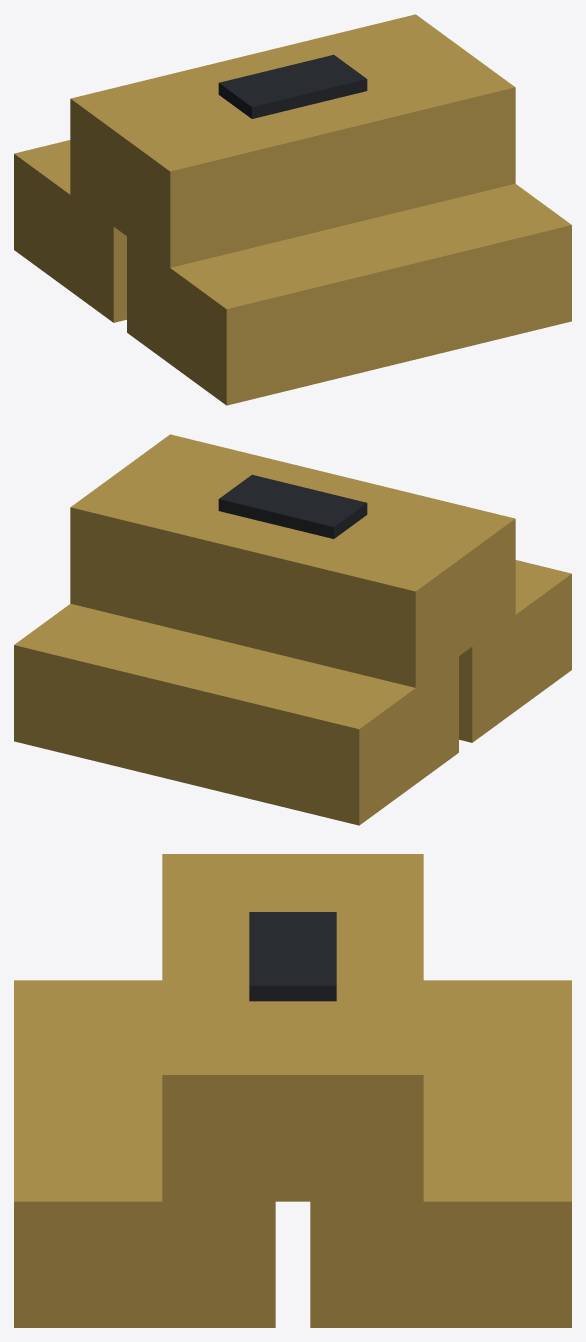
Rendered from muon-gold.lod.glb.
3 views of the same model, one above another, from view 1: azimuth 30°, elevation 25°; view 2: azimuth 150°, elevation 25°; view 3: azimuth 270°, elevation 25° (orthographic). The views are drawn at different scales.
Parts seen in each view (by area): view 1: m; view 2: m; view 3: m.
Part boxes in pixels (x1,y1,x2,y2): m: (14, 14, 571, 405); m: (14, 434, 571, 825); m: (14, 854, 571, 1327).
Bounding box in the file's own units: 0.07 × 0.0397 × 0.0747.
